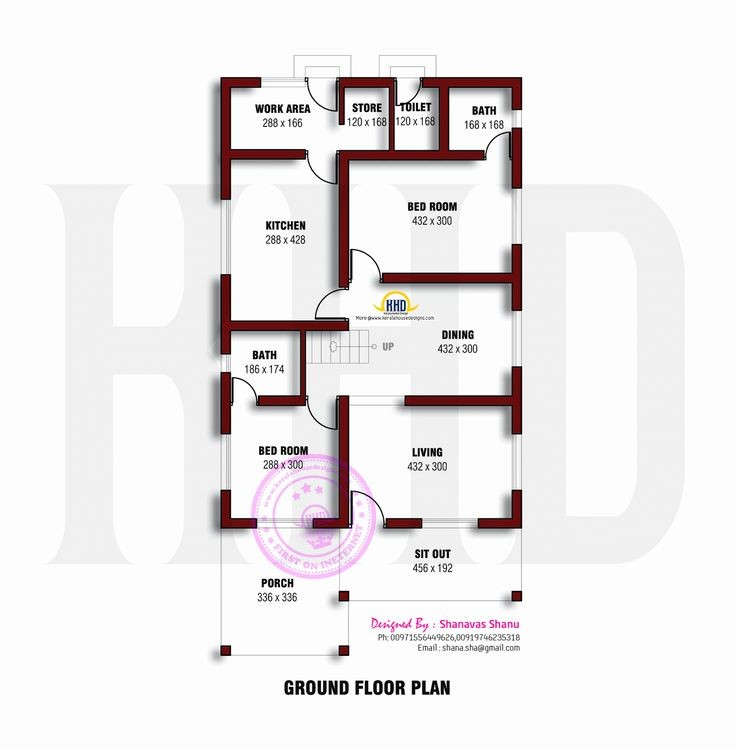door: (348, 475, 392, 532), (349, 228, 385, 290), (299, 74, 342, 123), (306, 275, 349, 322), (303, 398, 347, 442), (303, 143, 345, 189), (395, 75, 436, 119), (477, 124, 517, 166), (232, 374, 266, 408)
room: (338, 149, 529, 282), (342, 148, 524, 283), (222, 147, 357, 325), (347, 278, 525, 409), (345, 403, 526, 525), (356, 279, 528, 405), (229, 405, 347, 532), (221, 77, 345, 149), (448, 80, 524, 169), (229, 328, 303, 400), (392, 81, 445, 156), (341, 78, 389, 156)
wall: (382, 262, 526, 293), (404, 389, 529, 416), (219, 312, 353, 336), (333, 150, 355, 291), (333, 396, 355, 532), (337, 145, 485, 162), (222, 142, 304, 170), (500, 243, 532, 312), (420, 70, 526, 89), (216, 276, 240, 356), (216, 492, 258, 536), (510, 367, 536, 438), (221, 76, 235, 204), (385, 510, 435, 543), (478, 510, 531, 539), (438, 71, 453, 164), (214, 371, 235, 436), (336, 72, 397, 94), (502, 64, 529, 112), (503, 489, 533, 532), (313, 512, 356, 541), (511, 124, 529, 190), (386, 76, 400, 160), (297, 320, 310, 410), (219, 73, 264, 93), (260, 395, 306, 411)
window: (418, 496, 482, 548), (209, 196, 243, 277), (499, 424, 537, 493), (491, 188, 537, 244), (498, 302, 537, 366), (256, 507, 320, 537), (216, 427, 243, 493), (263, 57, 309, 91), (210, 344, 239, 376)
